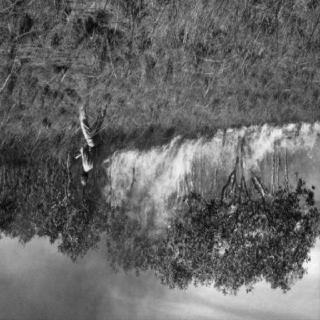Smoke: (57, 268, 115, 320)
